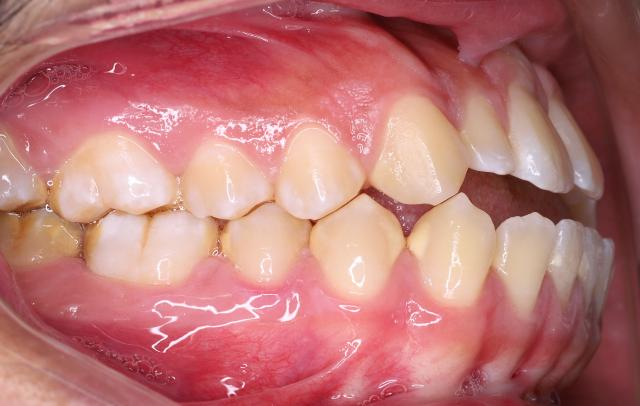canine class II 1/4: (313, 75, 499, 309)
molar class III 1/4: (46, 117, 220, 308)
